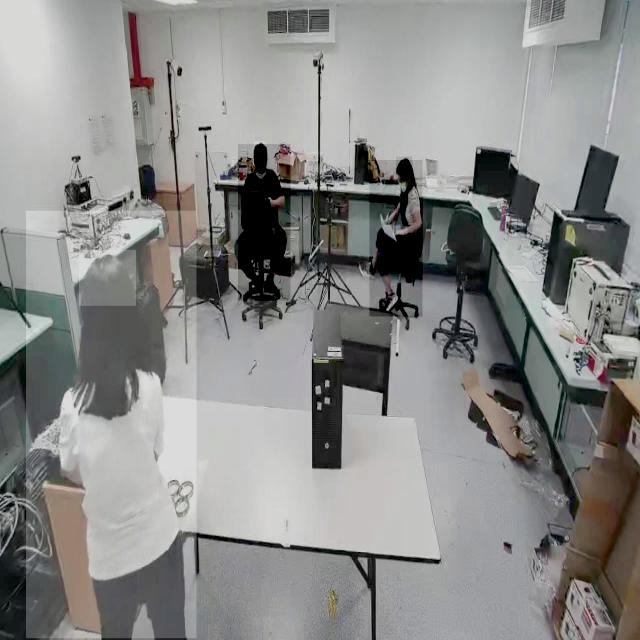face_mask: (256, 158, 268, 182), (397, 175, 409, 196)
glasses: (262, 272, 282, 302), (378, 289, 399, 315), (358, 261, 377, 279)
hand_noglove: (393, 226, 407, 236)
head_nohelmet: (79, 250, 136, 306), (396, 156, 412, 174), (253, 142, 267, 156)
person: (26, 211, 197, 639), (369, 160, 423, 317), (238, 144, 291, 301)
